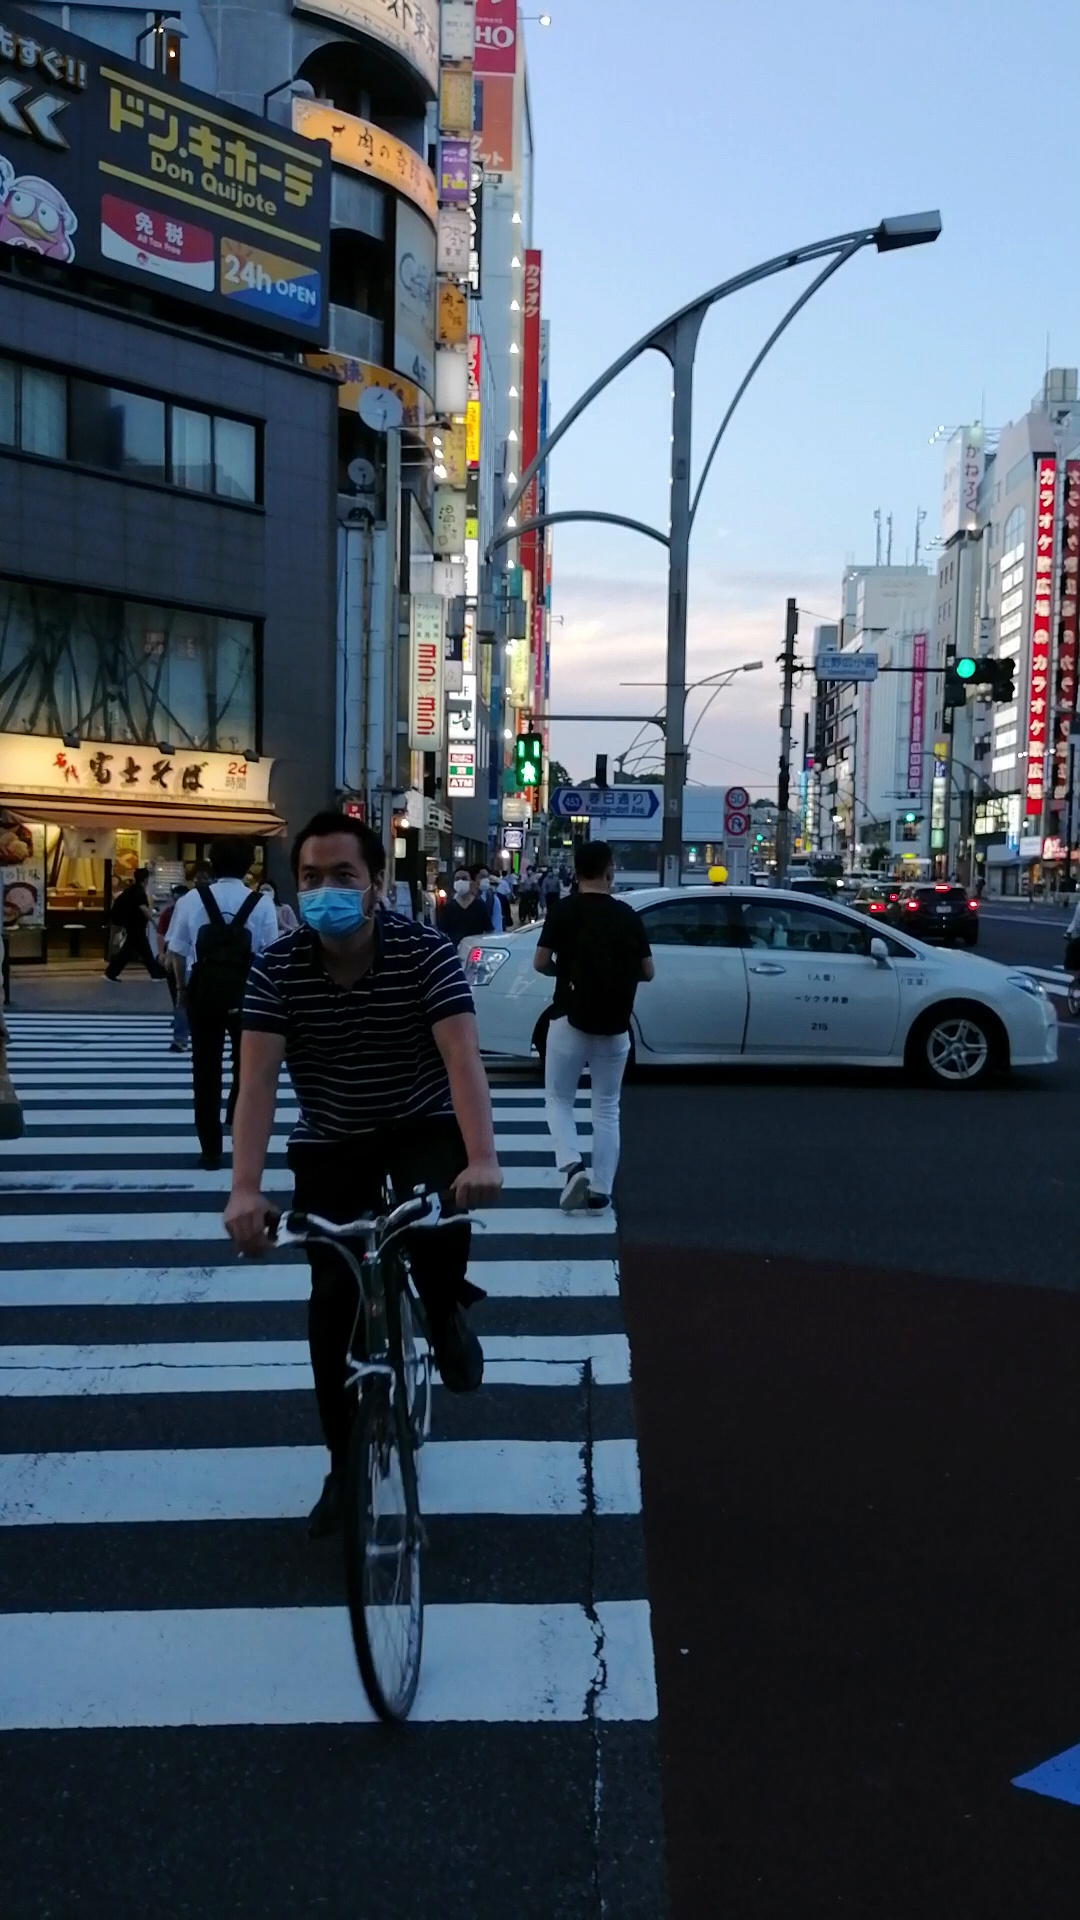green: (513, 733, 543, 789)
